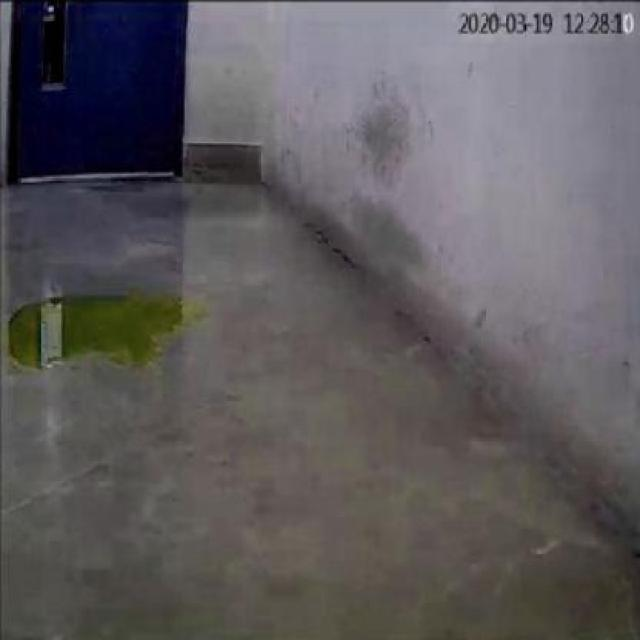spillage: (9, 293, 184, 371)
